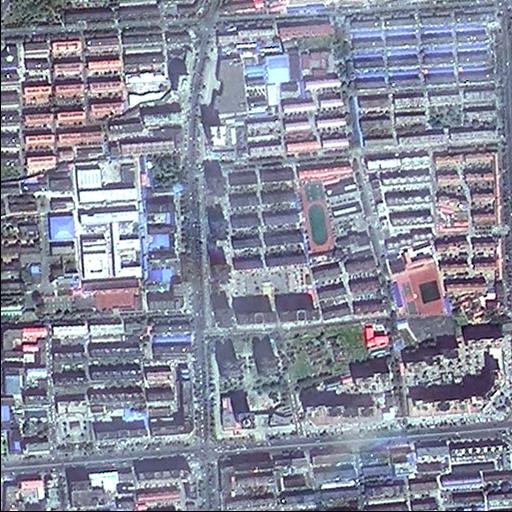school: (297, 172, 374, 263), (384, 246, 451, 320), (74, 275, 143, 320)
